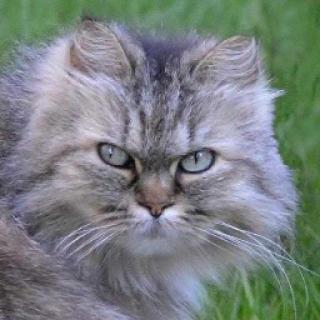cat: (25, 23, 284, 255)
nose: (132, 180, 182, 220)
